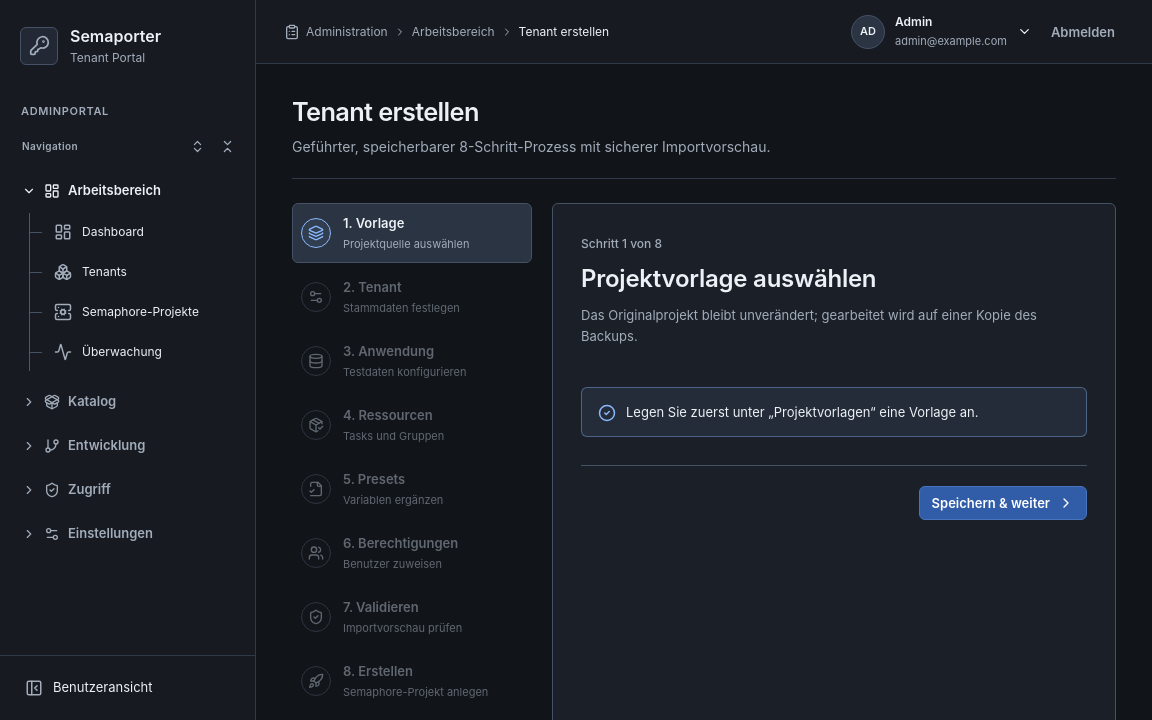
Scenario: Portal-Flows › behält den Wizard im ersten Schritt, solange keine Vorlage gewählt ist
Click the button "Speichern & weiter" at (1003, 504), box [919,486,1087,520]
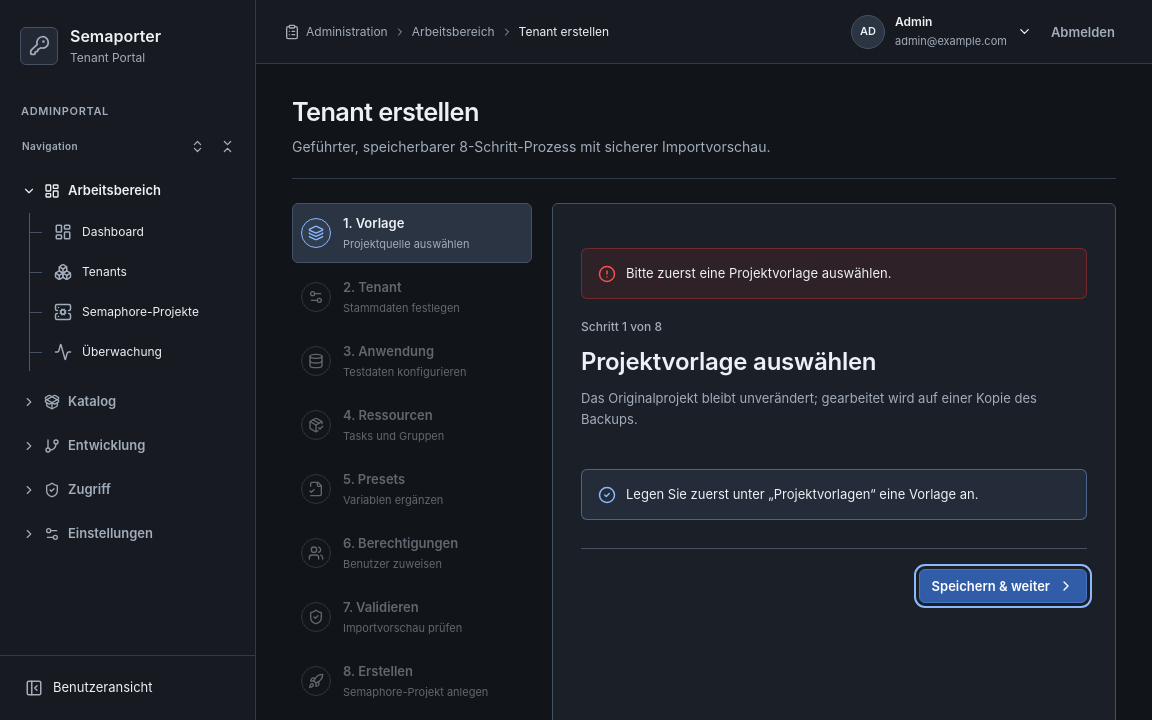
Now the text "Bitte zuerst eine Projektvorlage auswählen." is shown, box [626,263,891,284]
